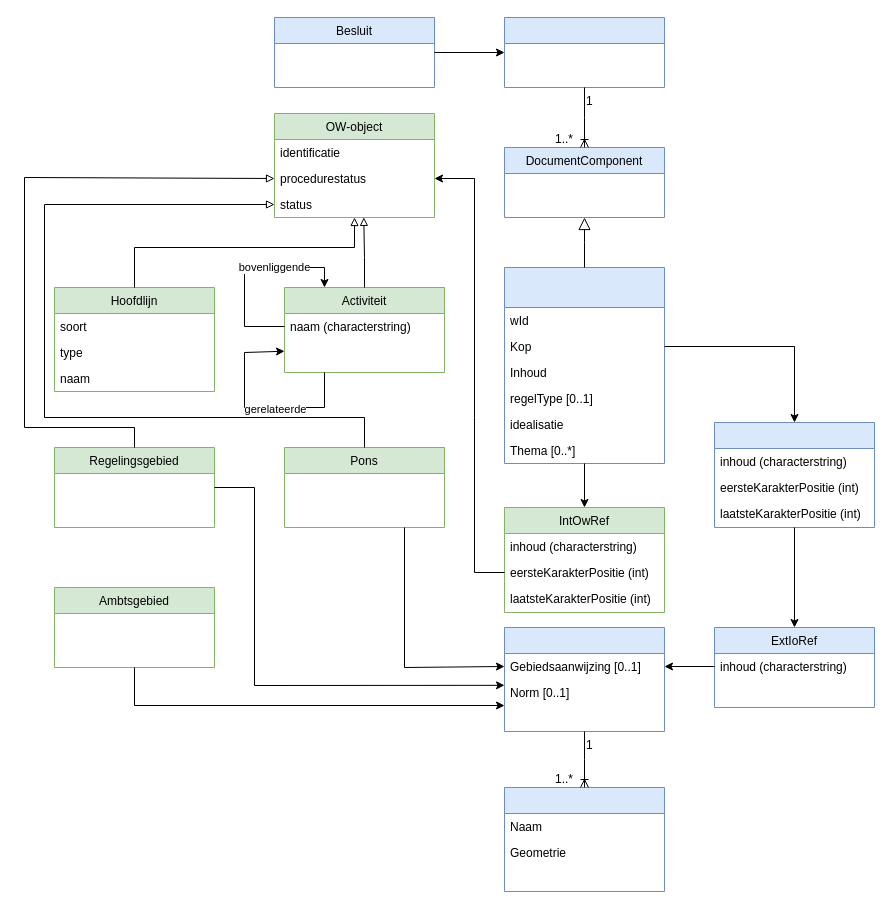
Image size: 892x909. Some labels were removed from this diagram. The box of each missing label's shape, as (x1, y1, x2, y2) in pixels:
GIO: (504, 626, 664, 732)
IntIoRef: (714, 422, 874, 528)
Locatie: (504, 786, 664, 892)
Regeling: (504, 16, 664, 88)
typen (Artikel/Lid/Divisie/Divisietekst): (504, 266, 664, 464)
